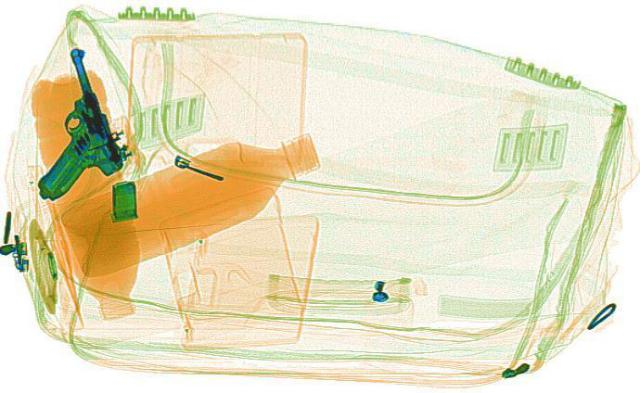Gun: (34, 45, 124, 198)
